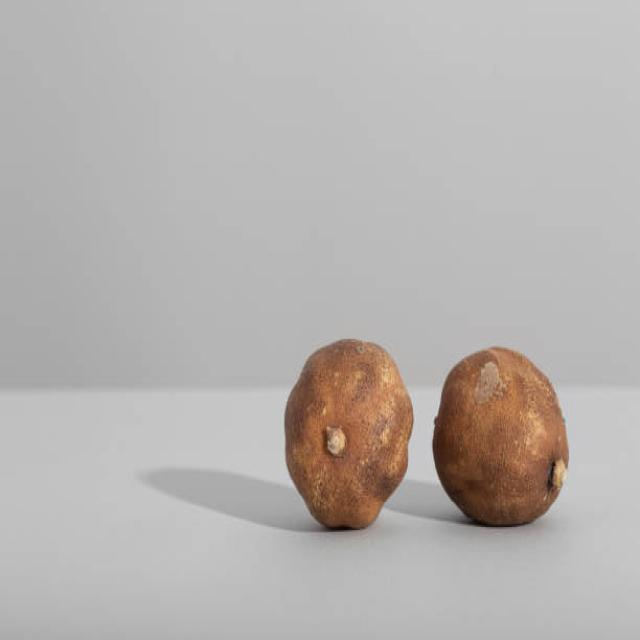overripe: (278, 333, 417, 533), (434, 336, 572, 534)
